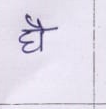ai_matra: (26, 14, 47, 28)
